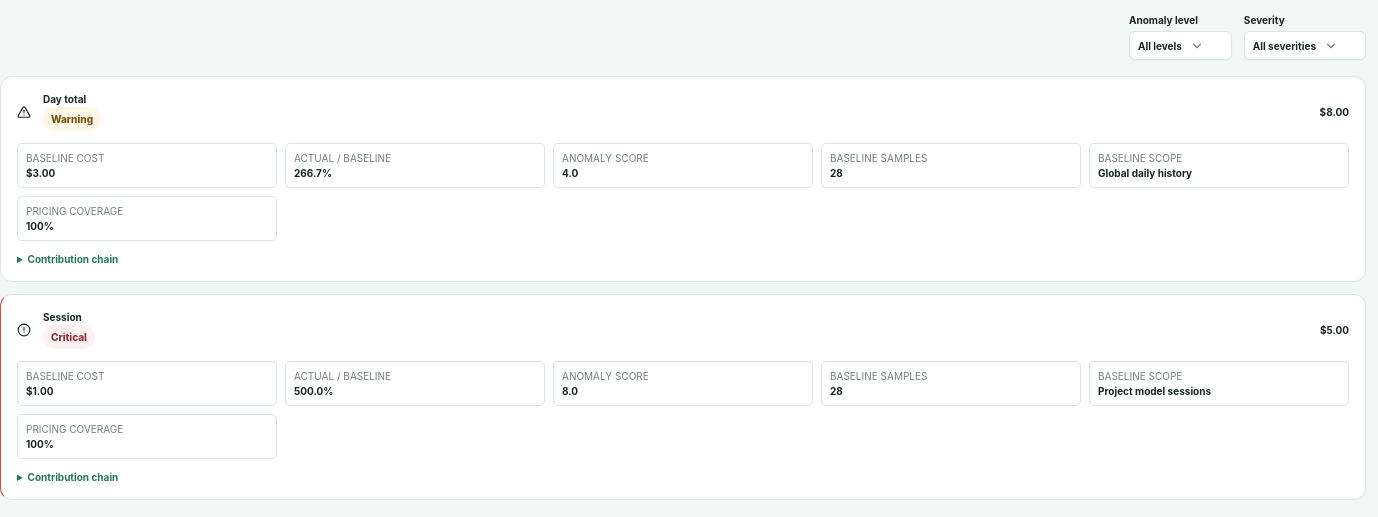
Scenario: CostAnomalies › filters through the accessible level menu
This screenshot has width=1378, height=517.
Click the dropdown named "Anomaly level". click: click(1180, 46)
box: [1129,31,1232,60]
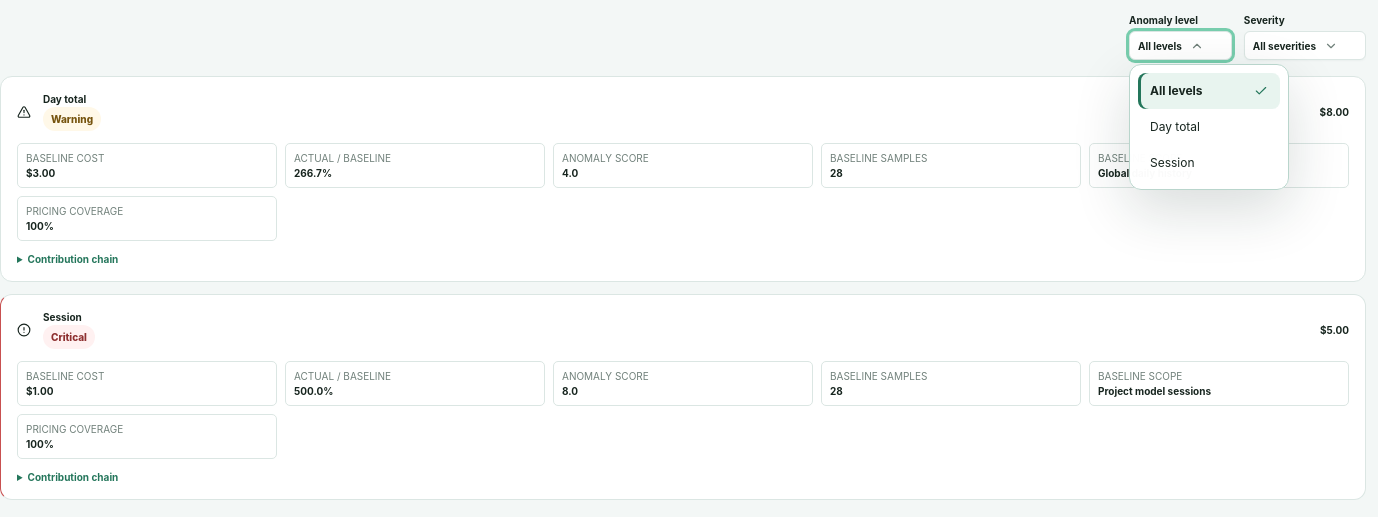
Click the option "Session". click: click(1209, 163)
box: [1138,145,1280,181]
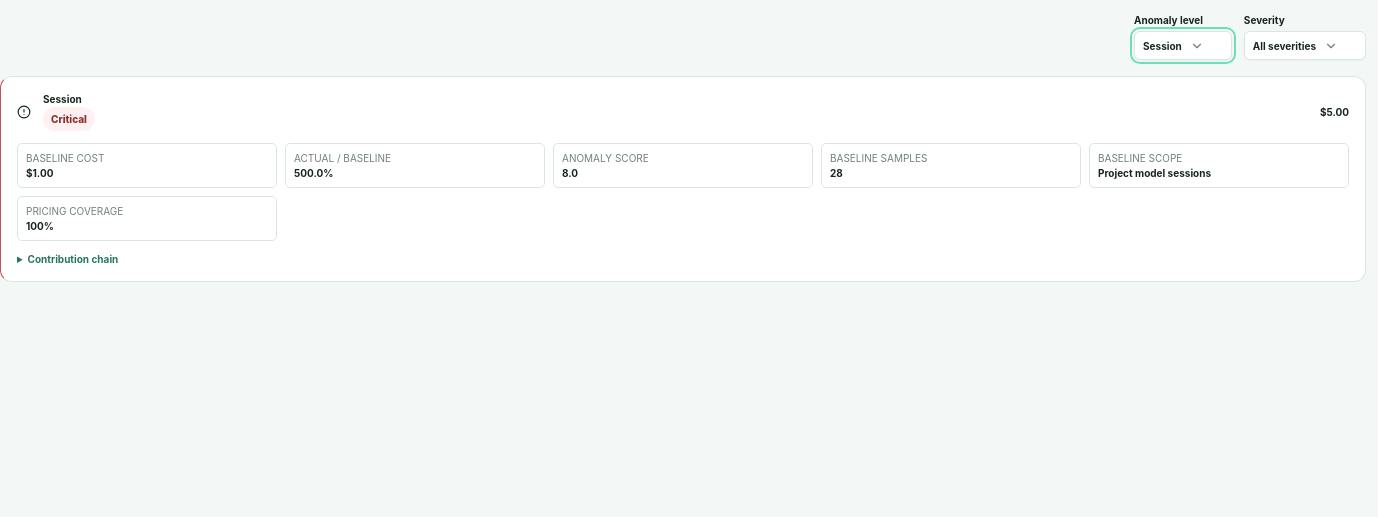
Now the dropdown named "Anomaly level" reads "Session", box [1134,31,1232,60]
Now the text "Day total" is gone
